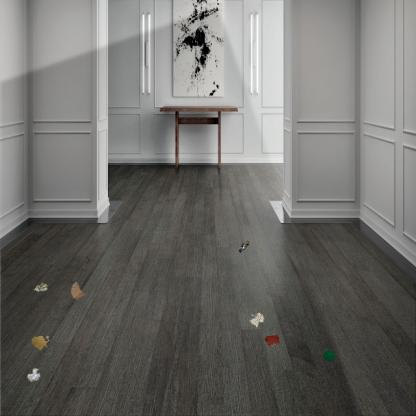dirty: (70, 280, 87, 301), (248, 311, 266, 329), (26, 366, 42, 384), (236, 239, 252, 254), (322, 348, 336, 363), (32, 281, 48, 293)
liquid: (30, 334, 50, 352), (264, 334, 281, 348)
